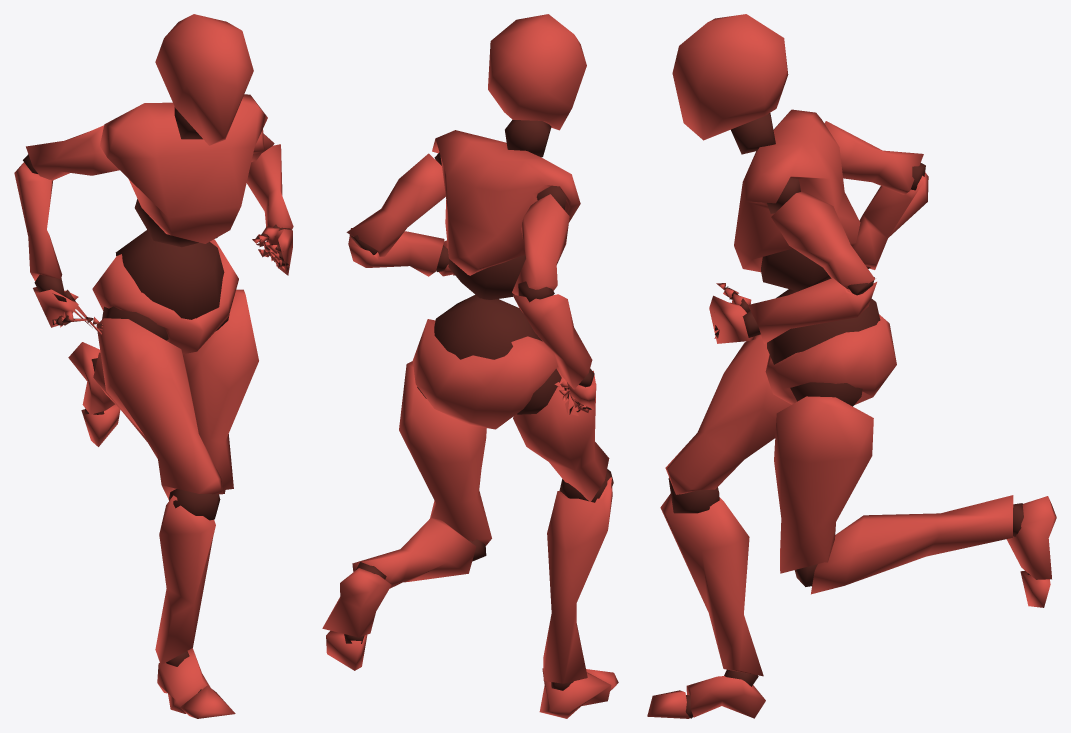
The picture shows the model from 3 angles, left to right: view 1: azimuth 30°, elevation 25°; view 2: azimuth 150°, elevation 25°; view 3: azimuth 270°, elevation 25°; orthographic projection. The views are drawn at different scales.
Parts seen in each view (by area): view 1: Beta_Surface.001; view 2: Beta_Surface.001; view 3: Beta_Surface.001.
Boxes of the visible parts, x1=… form: Beta_Surface.001: x1=14, y1=14, x2=293, y2=718; Beta_Surface.001: x1=322, y1=14, x2=618, y2=718; Beta_Surface.001: x1=647, y1=14, x2=1056, y2=718.
Bounding box in the file's own units: 5.44 × 14.39 × 7.5.
